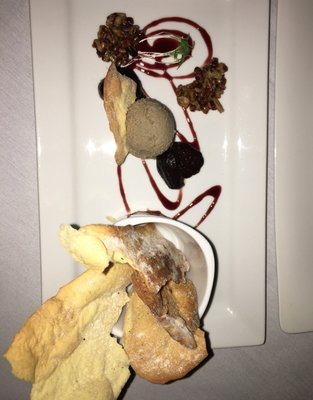soup: (2, 223, 211, 396)
